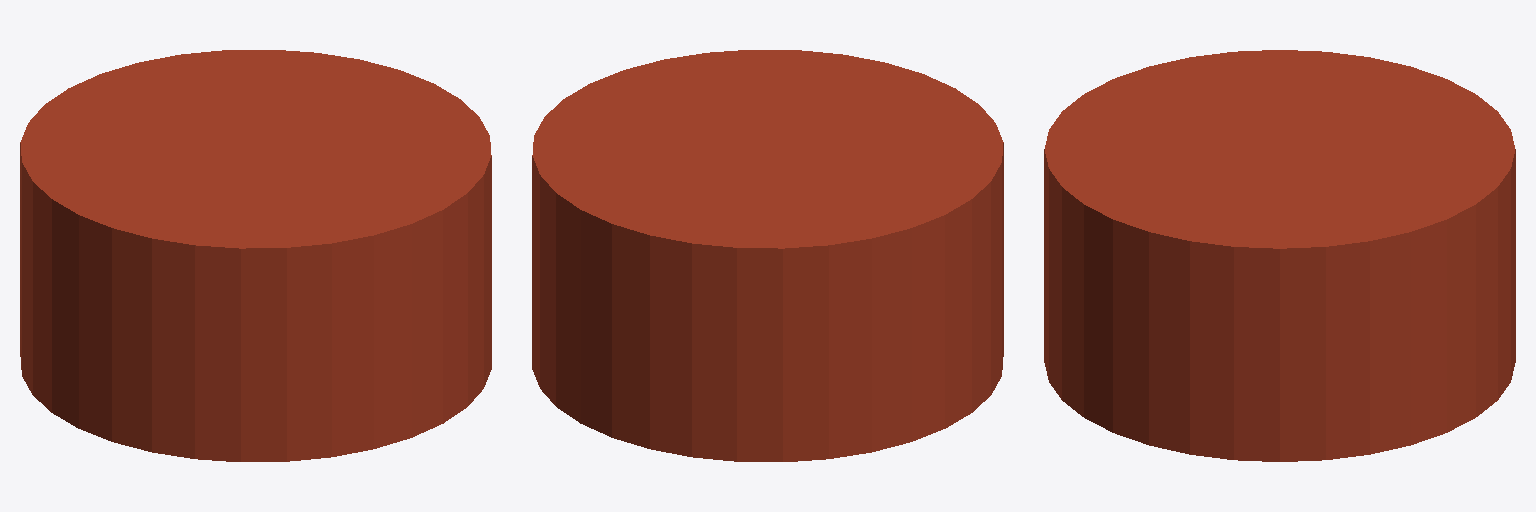
The robot description file, URDF, robot "car_disk":
<?xml version="1.0" ?>
<robot name="car_disk">
  <material name="ColorChassi">
    <color rgba="0.7 0.3 0.2 1.0"/>
  </material>
  <material name="ColorWheel">
    <color rgba="0.2 0.2 0.2 1.0"/>
  </material>
  <link name="world"/>
  <link name="empty_link_x"/>
  <link name="disk">
   <inertial>
     <mass value="1"/>
     <inertia ixx="0.05" ixy="0" ixz="0" iyy="0.07" iyz="0" izz="0.02"/>
   </inertial>
   <visual>
     <origin rpy="0 0 0" xyz="0 0 0.1"/>
     <geometry>
       <!-- <box size="0.5 0.3 0.2"/> -->
       <cylinder length="0.2" radius="0.2"/>
     </geometry>
      <material name="ColorChassi"/>
   </visual>
   <collision>
     <origin rpy="0 0 0" xyz="0 0 0.1"/>
     <geometry>
       <cylinder length="0.2" radius="0.2"/>
     </geometry>
      <material name="ColorChassi"/>
   </collision>
  </link>

  <joint name="joint_translation_x" type="prismatic">
    <origin xyz="-0.0 -0.0 0.0" rpy="0 0 0"/>
    <axis xyz="1 0 0"/>
    <parent link="world"/>
    <child link="empty_link_x"/>
    <limit effort="1" lower="-1.5" upper="1.5" velocity="1"/>
  </joint>
  <joint name="joint_translation_y" type="prismatic">
    <origin xyz="0 0 0.05" rpy="0 0 0"/>
    <axis xyz="0 1 0"/>
    <parent link="empty_link_x"/>
    <child link="disk"/>
    <limit effort="1" lower="-1.5" upper="1.5" velocity="1"/>
  </joint>

</robot>

--- What the picture shows (computed from the rendered views, not written in the file) ---
Views: 3 orthographic renders of the robot side by side, from view 1: azimuth 30°, elevation 25°; view 2: azimuth 150°, elevation 25°; view 3: azimuth 270°, elevation 25°.
Robot: car_disk — 3 links, 2 joints (2 prismatic); root link world; default pose: all joints at 0.
Visible links, largest first — view 1: disk; view 2: disk; view 3: disk.
Boxes of the visible links, x1,y1,x2,y2 form: disk: (20,50,491,461); disk: (532,50,1003,461); disk: (1044,50,1515,461).
Bounding box of the posed robot: 0.4 × 0.4 × 0.2 m (x, y, z).
Geometry: primitives only (box / cylinder / sphere), no mesh files.
